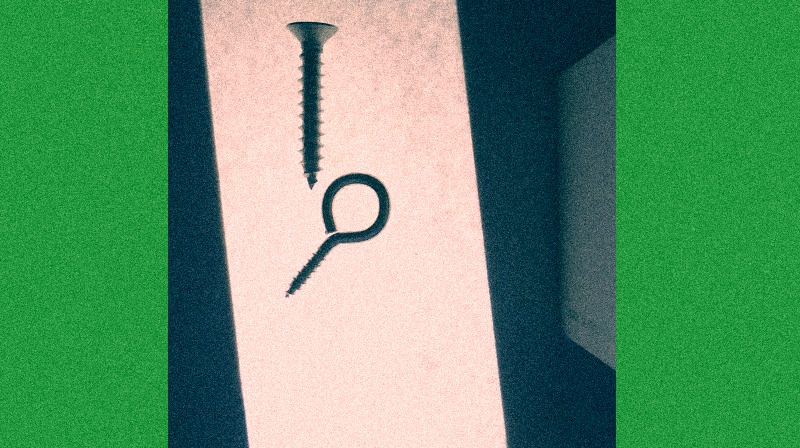O001: (282, 170, 390, 299)
S001: (285, 17, 335, 191)
